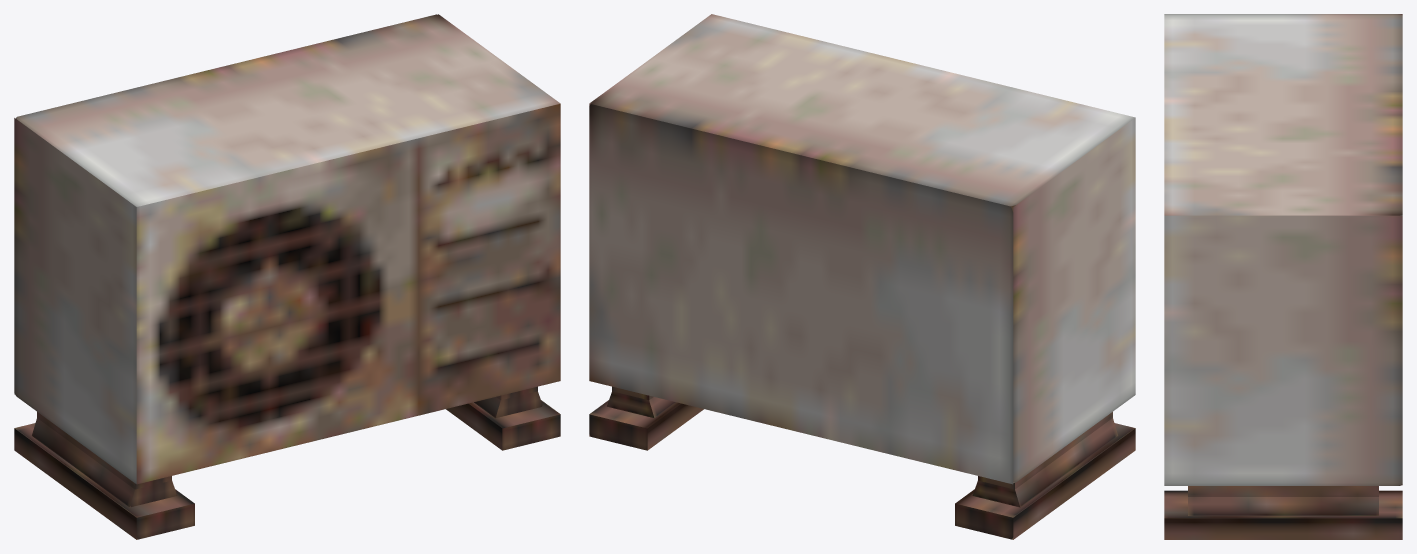
File: Poly_SF_Outside_B_Outdoor_Air_Intake_Unit_01.obj
3 views of the same model, side by side, from view 1: azimuth 30°, elevation 25°; view 2: azimuth 150°, elevation 25°; view 3: azimuth 270°, elevation 25° (orthographic). The views are drawn at different scales.
Visible parts, largest first — view 1: Cube.007, Cube.001; view 2: Cube.007, Cube.001; view 3: Cube.007, Cube.001.
Boxes of the visible parts, x1,y1,x2,y2 form: Cube.007: (14, 14, 560, 484); Cube.001: (14, 386, 560, 539); Cube.007: (589, 14, 1135, 484); Cube.001: (589, 386, 1135, 539); Cube.007: (1164, 14, 1402, 485); Cube.001: (1164, 486, 1402, 539).
Bounding box in the file's own units: 0.8 × 0.6 × 0.4.
Materials: 1 (1 with a texture image).
